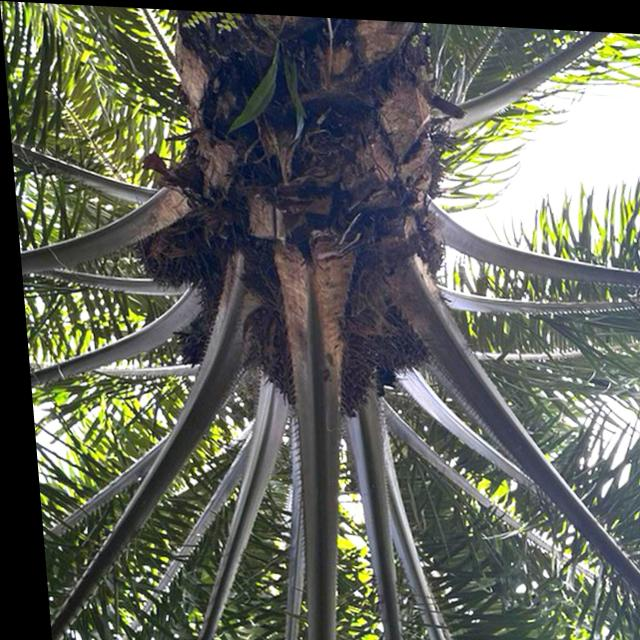ripe: (245, 299, 384, 427)
